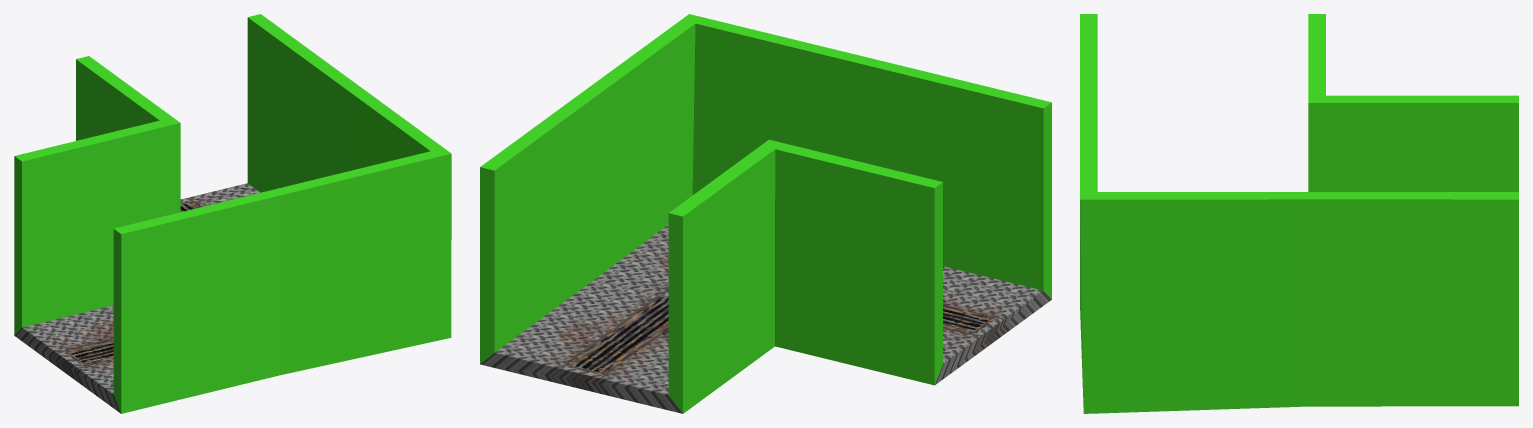
The model's file is Corridor.004.fbx.
3 renders of one model, left to right at view 1: azimuth 30°, elevation 25°; view 2: azimuth 150°, elevation 25°; view 3: azimuth 270°, elevation 25°, orthographic. The views are drawn at different scales.
Parts seen in each view (by area): view 1: Corridor.004; view 2: Corridor.004; view 3: Corridor.004.
Part boxes in pixels (<box>): Corridor.004: <box>14,14,451,413</box>; Corridor.004: <box>480,14,1051,413</box>; Corridor.004: <box>1080,14,1518,413</box>.
Size of the model in its own units: 1255 by 672 by 1250.
